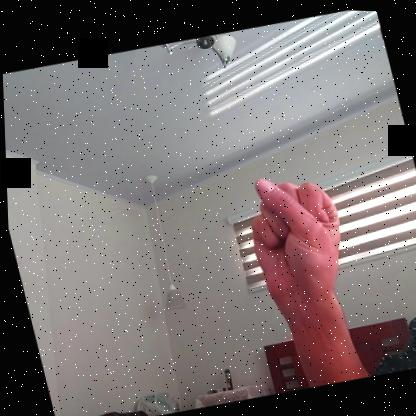S: (234, 160, 358, 313)
